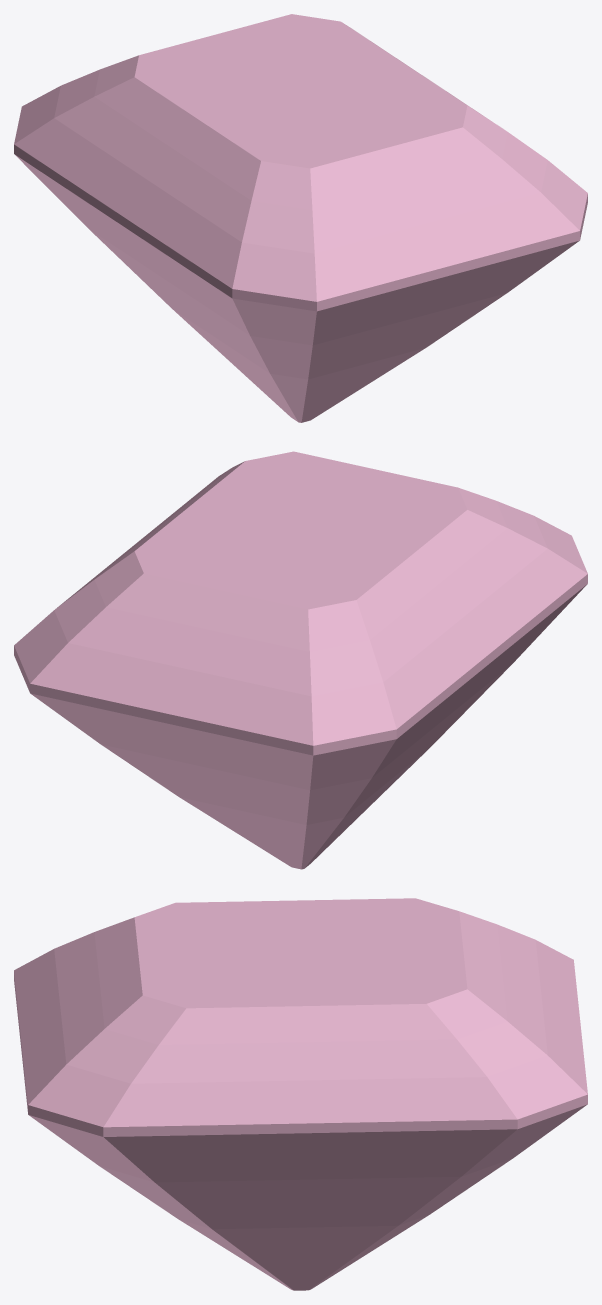
The model's file is jewelry.glb.
3 views of the same model, one above another, from view 1: azimuth 30°, elevation 25°; view 2: azimuth 150°, elevation 25°; view 3: azimuth 270°, elevation 25° (orthographic). The views are drawn at different scales.
Parts seen in each view (by area): view 1: Gemstone Kunzite; view 2: Gemstone Kunzite; view 3: Gemstone Kunzite.
Boxes of the visible parts, box(x1,y1,x2,y2) form: Gemstone Kunzite: box(14, 14, 587, 422); Gemstone Kunzite: box(14, 451, 587, 869); Gemstone Kunzite: box(14, 898, 587, 1290).
Bounding box in the file's own units: 2.08 × 1.71 × 2.66.
